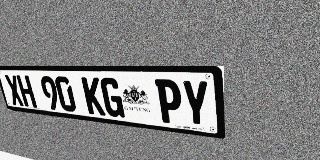0: (54, 76, 77, 112)
9: (39, 76, 61, 111)
G: (99, 77, 125, 118)
H: (16, 75, 37, 108)
K: (81, 77, 106, 116)
P: (155, 79, 183, 125)
X: (4, 75, 25, 106)
Y: (181, 80, 210, 128)
